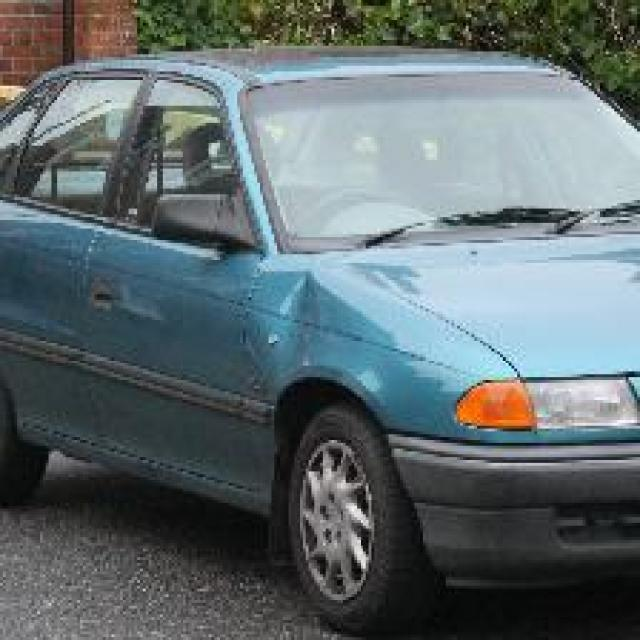damaged: (243, 268, 434, 421)
